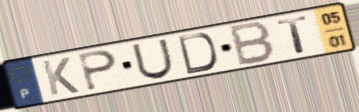B: (228, 20, 277, 68)
D: (176, 31, 220, 76)
K: (39, 56, 82, 98)
P: (76, 49, 119, 93)
T: (275, 14, 311, 56)
U: (130, 37, 176, 81)
